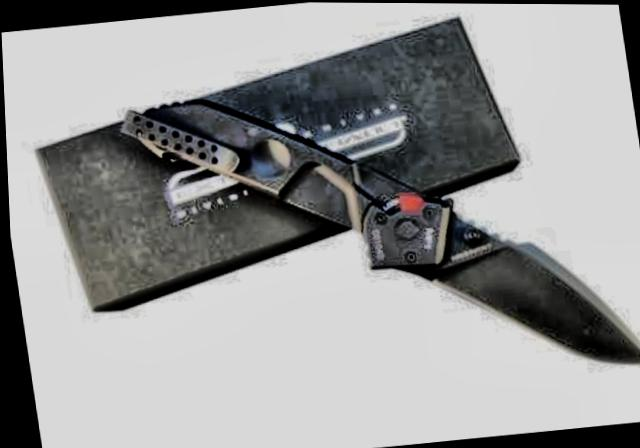knife: (396, 191, 640, 391)
